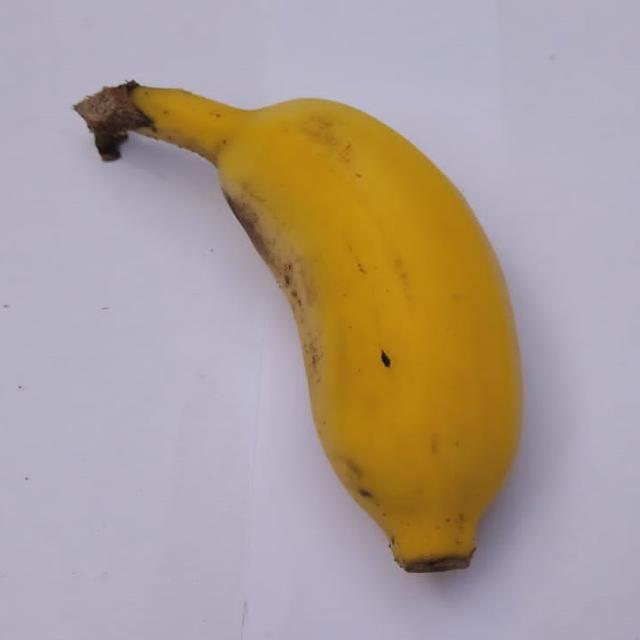banana: (76, 83, 520, 571)
